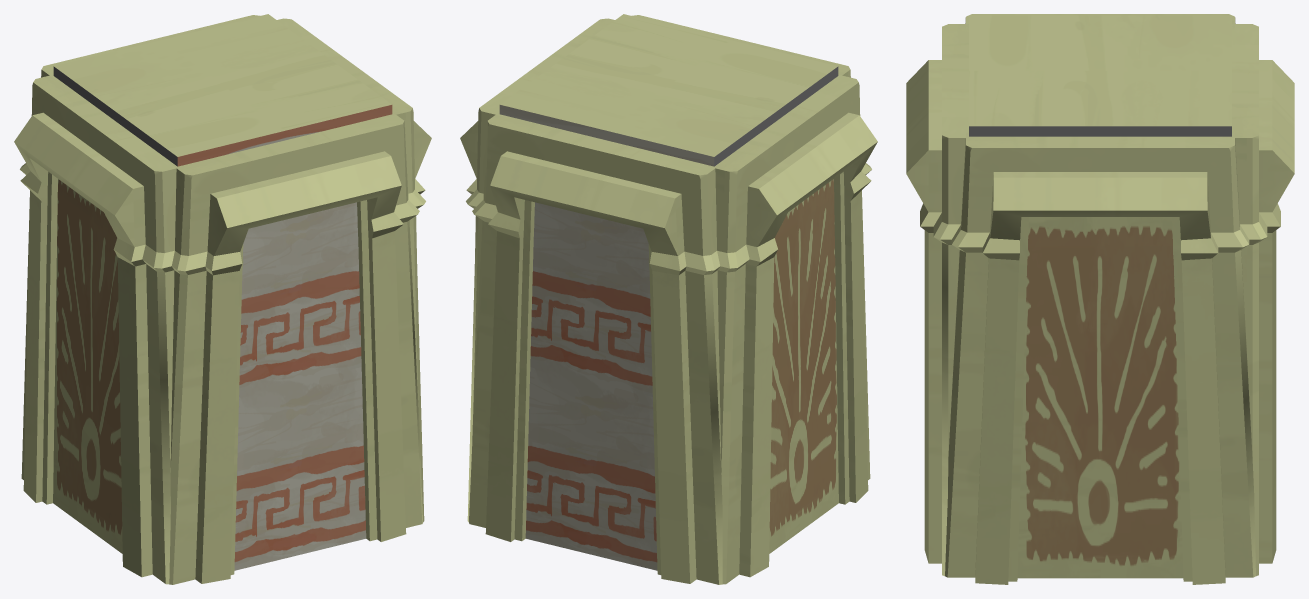
File: block_03.fbx
The picture shows the model from 3 angles, left to right: view 1: azimuth 30°, elevation 25°; view 2: azimuth 150°, elevation 25°; view 3: azimuth 270°, elevation 25°; orthographic projection. The views are drawn at different scales.
Parts seen in each view (by area): view 1: block_03; view 2: block_03; view 3: block_03.
Part boxes in pixels (left/top/right/bottom): block_03: left=14, top=14, right=431, bottom=584; block_03: left=460, top=14, right=877, bottom=584; block_03: left=906, top=14, right=1294, bottom=584.
Size of the model in its own units: 2.45 by 3.06 by 2.45.
4 materials, 3 textured.
